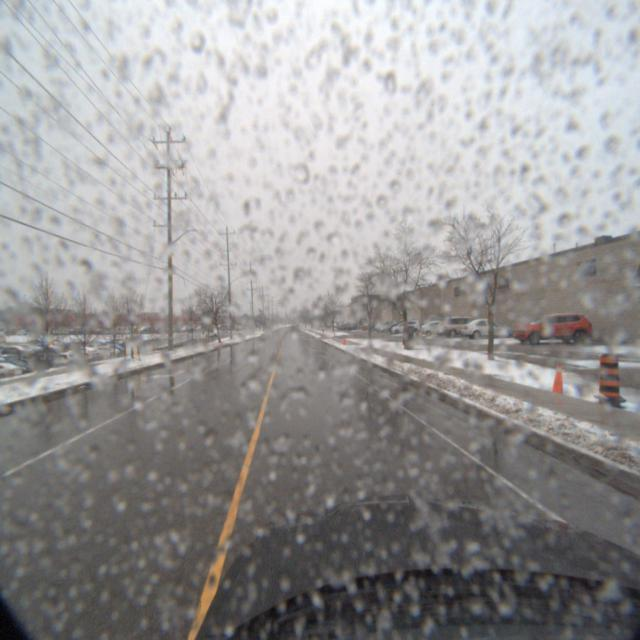Car: (508, 310, 600, 345), (458, 316, 518, 340), (437, 315, 491, 337), (392, 320, 424, 334)
